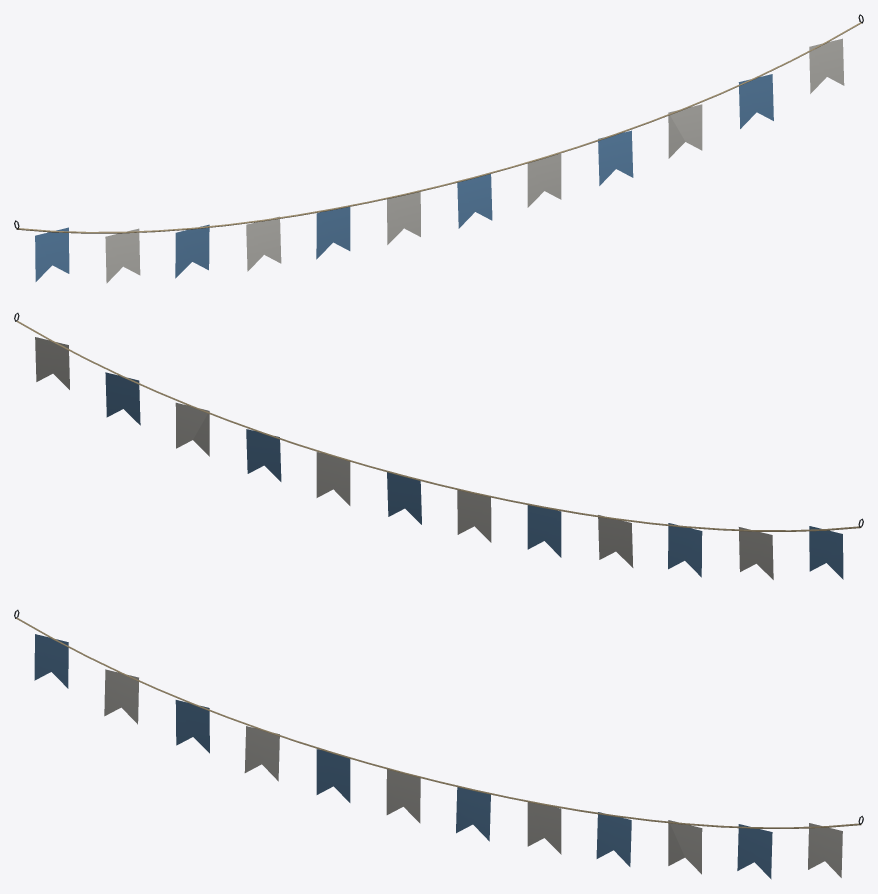
The model's file is bunting.glb.
The picture shows the model from 3 angles, top to bottom: view 1: azimuth 30°, elevation 25°; view 2: azimuth 150°, elevation 25°; view 3: azimuth 330°, elevation 25°; orthographic projection.
Parts seen in each view (by area): view 1: isl_bunting; view 2: isl_bunting; view 3: isl_bunting.
Boxes of the visible parts, x1,y1,x2,y2 form: isl_bunting: (14,14,863,283); isl_bunting: (14,312,863,579); isl_bunting: (14,609,863,879).
Bounding box in the file's own units: 8.01 × 1.04 × 0.0822.
